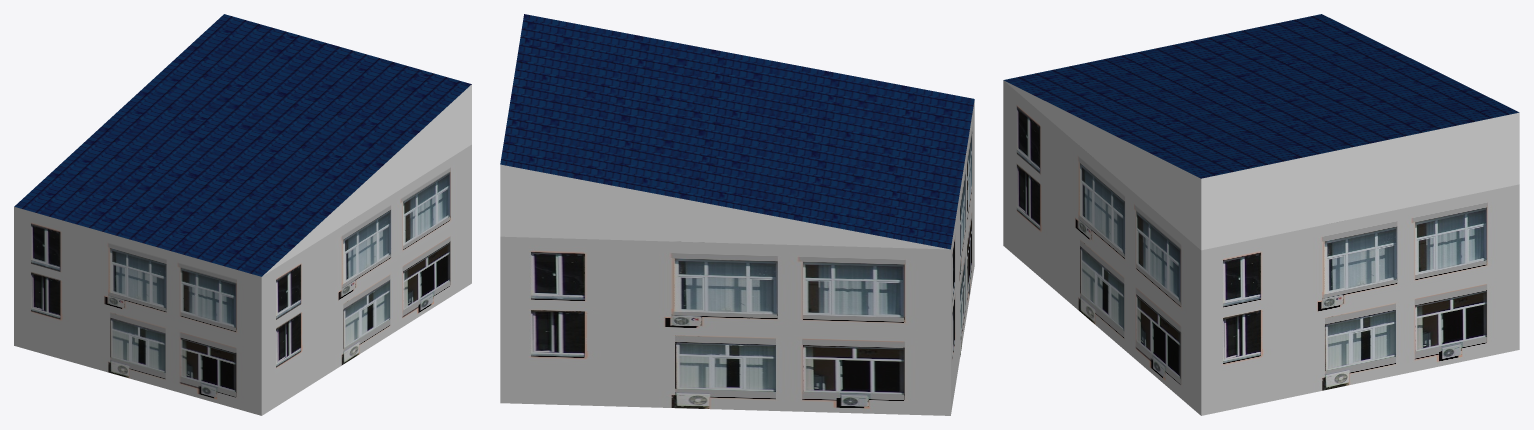
3 renders of one model, left to right at view 1: azimuth 30°, elevation 25°; view 2: azimuth 150°, elevation 25°; view 3: azimuth 270°, elevation 25°, orthographic. The views are drawn at different scales.
Parts seen in each view (by area): view 1: CityEngineMaterial_9_m, CityEngineMaterial_6_m, CityEngineMaterial_3_m; view 2: CityEngineMaterial_9_m, CityEngineMaterial_6_m, CityEngineMaterial_3_m; view 3: CityEngineMaterial_9_m, CityEngineMaterial_6_m, CityEngineMaterial_3_m.
Part boxes in pixels (x1=…): CityEngineMaterial_9_m: x1=14, y1=144, x2=471, y2=415; CityEngineMaterial_6_m: x1=14, y1=14, x2=471, y2=276; CityEngineMaterial_3_m: x1=263, y1=84, x2=471, y2=275; CityEngineMaterial_9_m: x1=500, y1=101, x2=974, y2=415; CityEngineMaterial_6_m: x1=500, y1=14, x2=974, y2=249; CityEngineMaterial_3_m: x1=500, y1=164, x2=948, y2=249; CityEngineMaterial_9_m: x1=1003, y1=80, x2=1519, y2=415; CityEngineMaterial_6_m: x1=1003, y1=14, x2=1519, y2=178; CityEngineMaterial_3_m: x1=1004, y1=80, x2=1519, y2=250.
Size of the model in its own units: 29.08 by 13.61 by 26.85.
